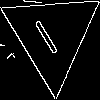I: (27, 11, 61, 56)
